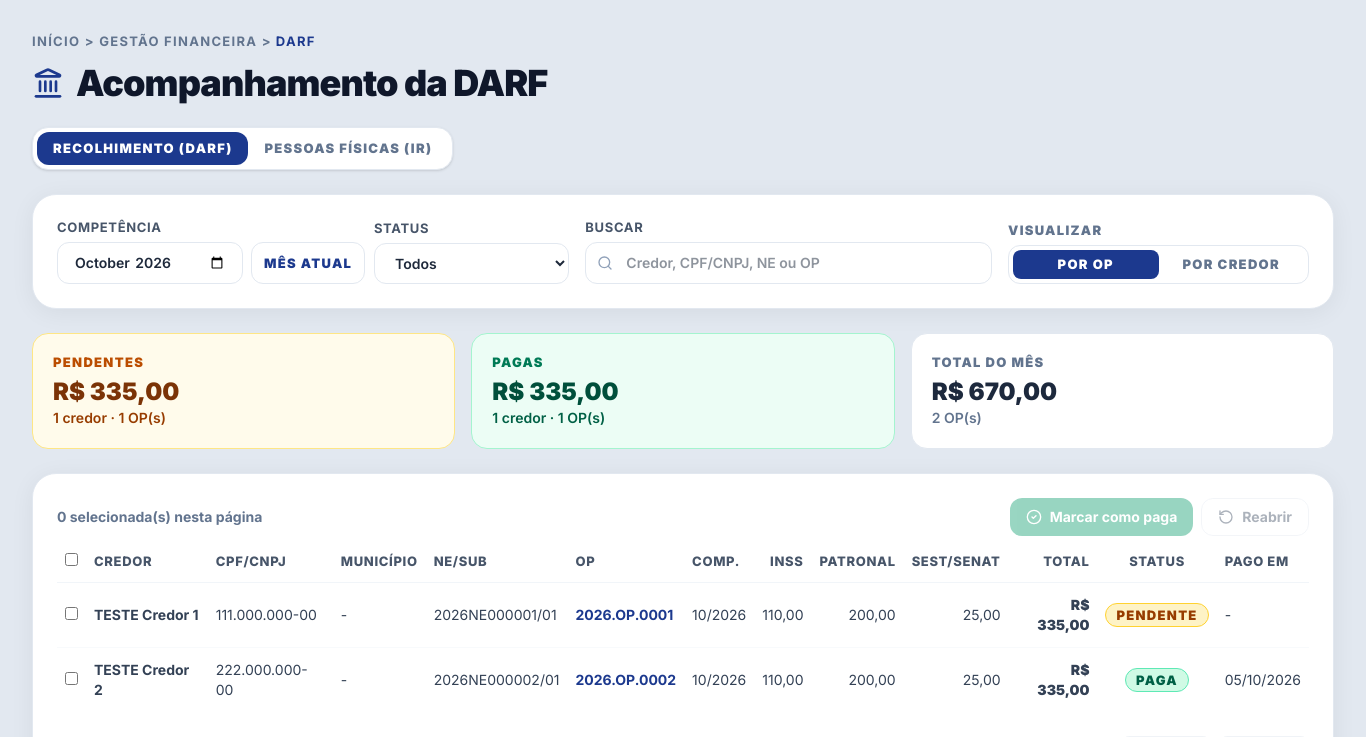
D1: seleção misturada › cada botão mostra quantas vai mudar
The width and height of the screenshot is (1366, 737).
Expected: the text "TESTE Credor 1" is shown, [86,583,208,648]
Step 1. Click the checkbox named "Selecionar DARF da OP 2026.OP.0001" → (72, 614), box [65,607,78,620]
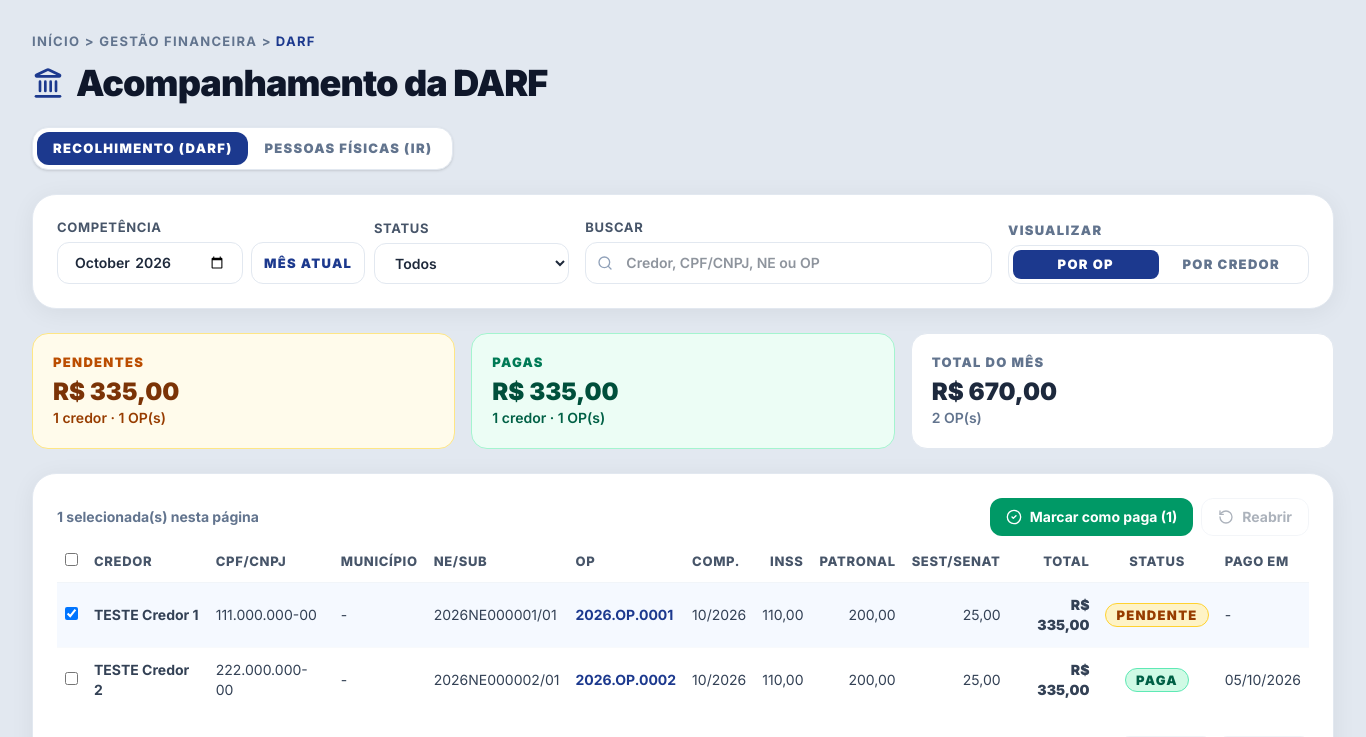
Step 2. Click the checkbox named "Selecionar DARF da OP 2026.OP.0002" → (72, 679), box [65,672,78,685]
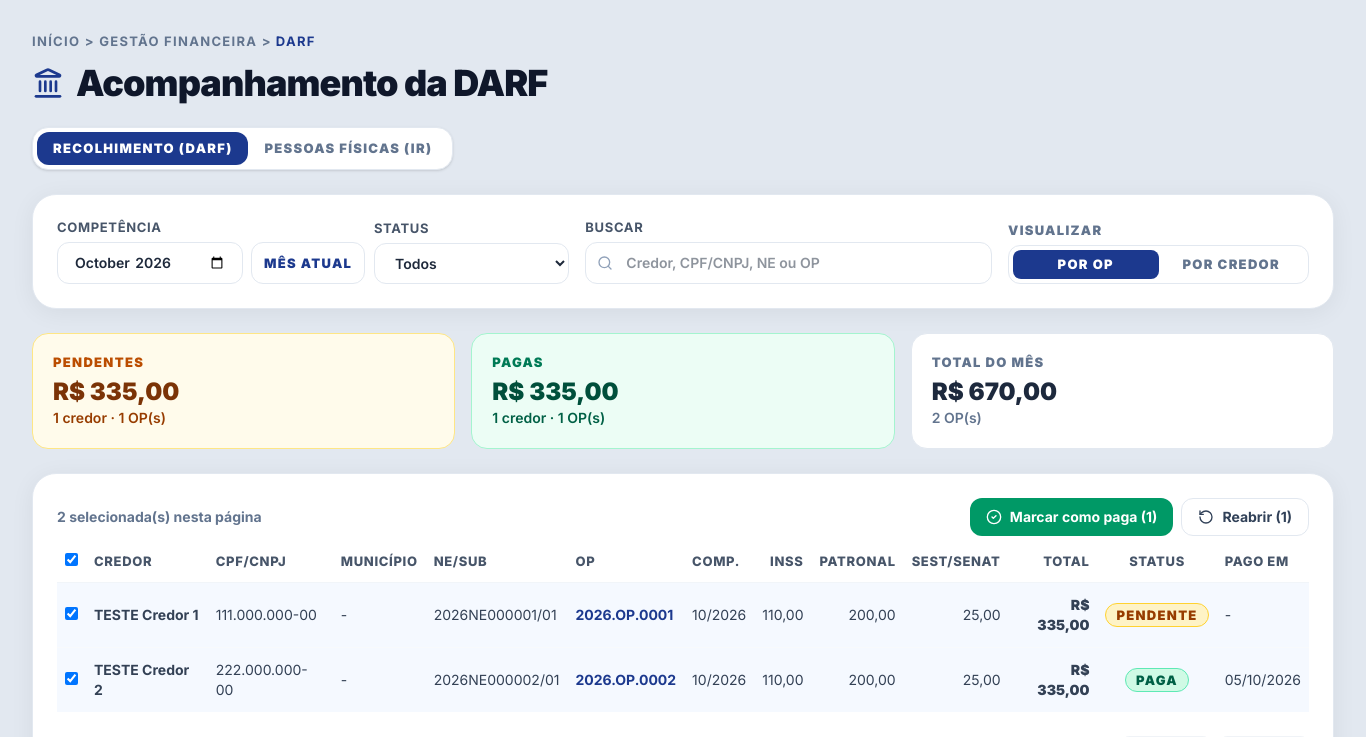
Result: the button "Marcar como paga (1)" is enabled at [970,498,1173,536]
Result: the button "Reabrir (1)" is enabled at [1181,498,1309,536]
